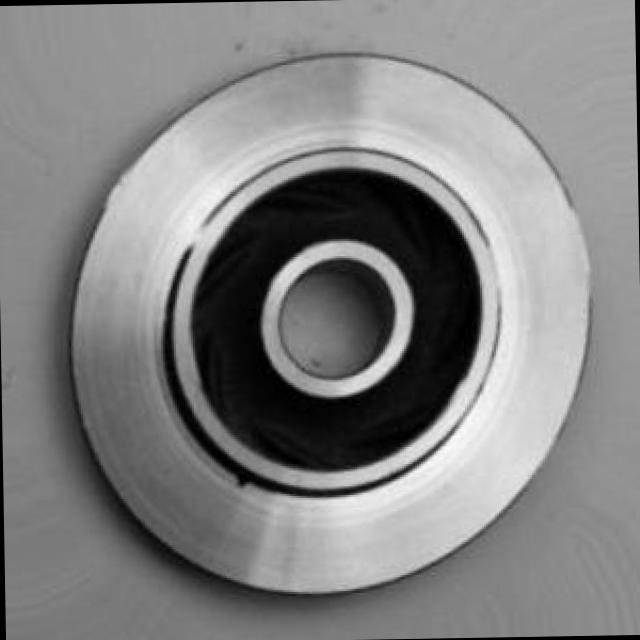Defect: (227, 460, 252, 494)
